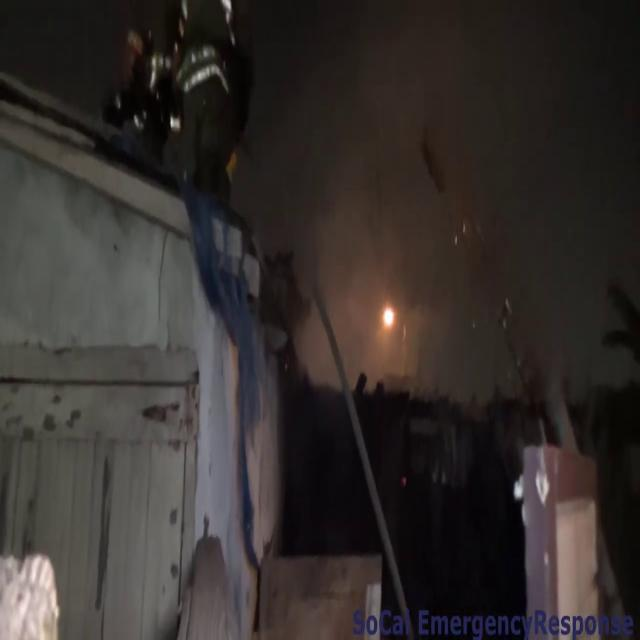Smoke: (235, 0, 640, 356)
